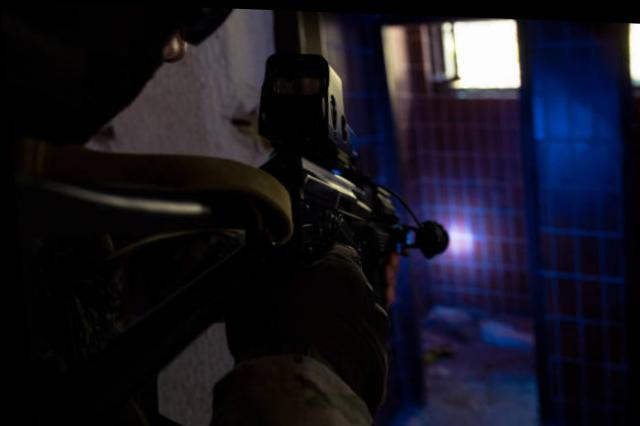other: (8, 10, 337, 424)
